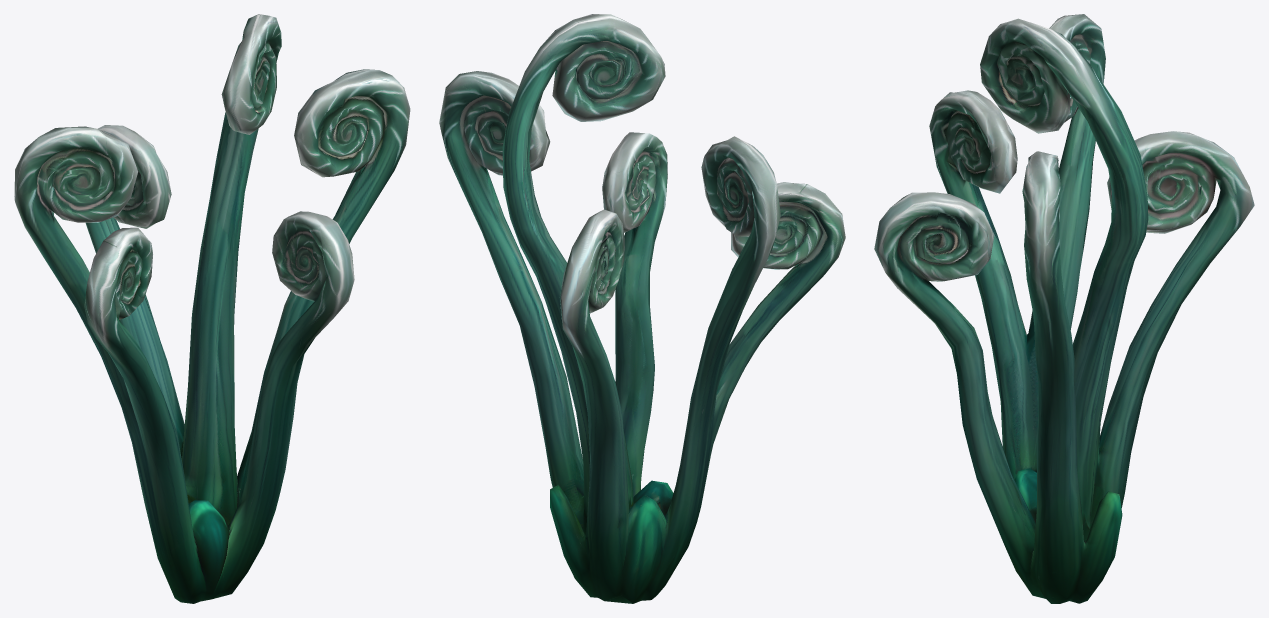
3 renders of one model, left to right at view 1: azimuth 30°, elevation 25°; view 2: azimuth 150°, elevation 25°; view 3: azimuth 270°, elevation 25°, orthographic. The views are drawn at different scales.
Parts seen in each view (by area): view 1: Mesh_0; view 2: Mesh_0; view 3: Mesh_0.
Boxes of the visible parts, bbox=[...] form: Mesh_0: bbox=[14, 14, 410, 603]; Mesh_0: bbox=[439, 14, 845, 603]; Mesh_0: bbox=[874, 14, 1254, 603].
Bounding box in the file's own units: 1.29 × 1.91 × 1.12.
Materials: 1 (1 with a texture image).
